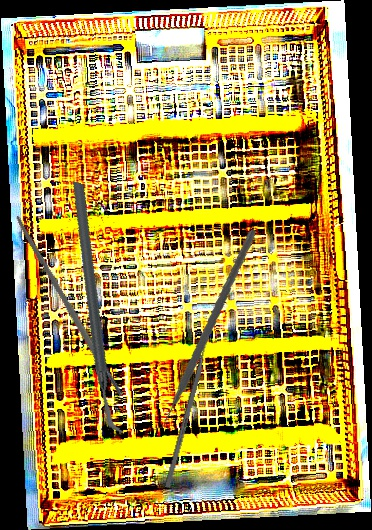Chopper: (7, 180, 190, 435), (122, 230, 278, 431)
Pusher: (164, 324, 214, 488)
Scalpel Handle: (12, 214, 125, 399)
